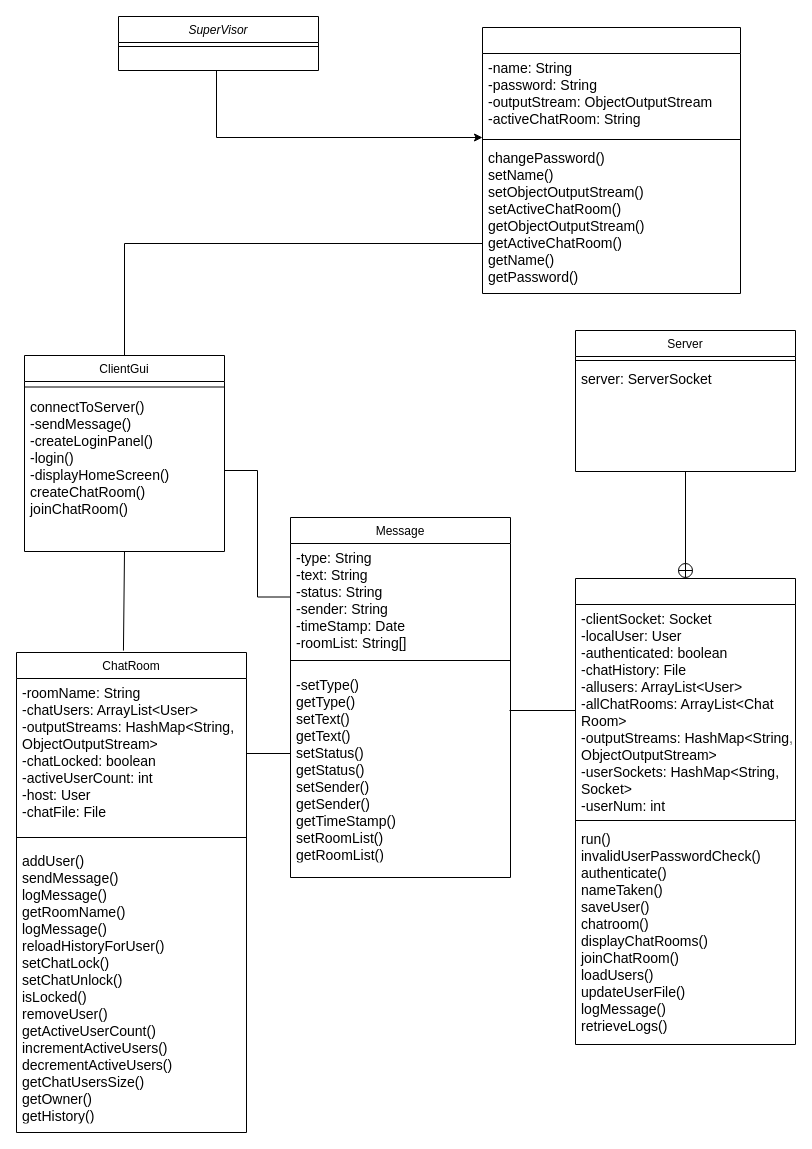
The diagram is 812 pixels wide and 1149 high, and some of its shapes have lost their labels. The shapes that lost their labels are listed below. From the top down, each one's box as (x1, y1, x2, y2) in pixels, then its label:
(482, 26, 740, 294): User
(574, 578, 796, 1044): ClientHandler
